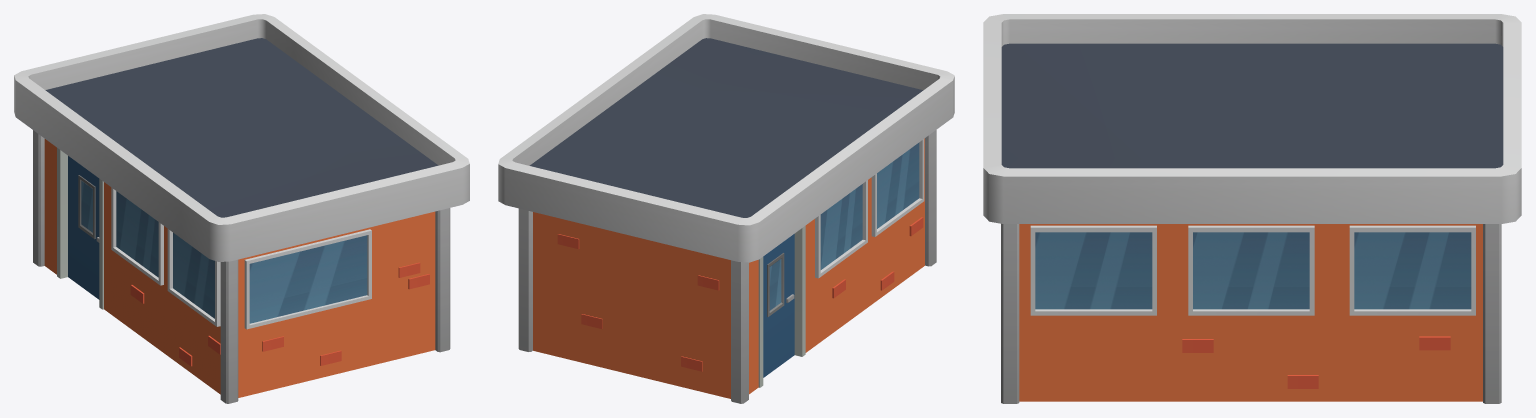
File: Building_13_A.glb
The picture shows the model from 3 angles, left to right: view 1: azimuth 30°, elevation 25°; view 2: azimuth 150°, elevation 25°; view 3: azimuth 270°, elevation 25°; orthographic projection. The views are drawn at different scales.
Parts seen in each view (by area): view 1: Building_13_A; view 2: Building_13_A; view 3: Building_13_A.
Boxes of the visible parts, box(x1,y1,x2,y2) form: Building_13_A: box(14, 14, 469, 403); Building_13_A: box(498, 14, 954, 403); Building_13_A: box(983, 14, 1521, 403).
Size of the model in its own units: 3.92 by 2.71 by 5.49.
3 materials, 3 textured.
